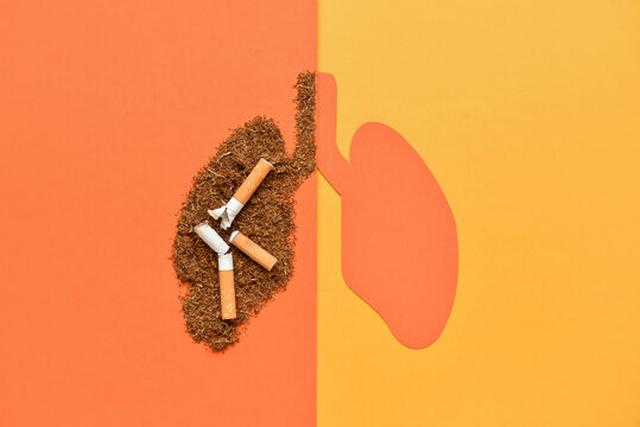Cigarette: (206, 157, 275, 230), (227, 229, 278, 272), (216, 252, 236, 320), (193, 221, 230, 255)
